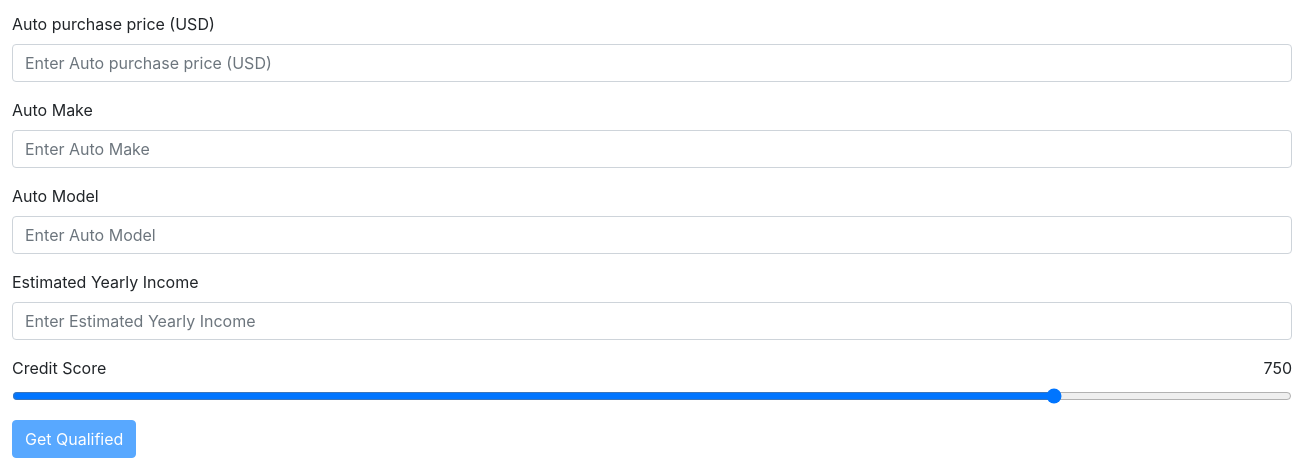
Scenario: QualificationForm › should enable 'submit' button when form complete and valid
Type "10000" into the field labelled "Auto purchase price (USD)" at [652, 63], box x1=12 y1=44 x2=1292 y2=82
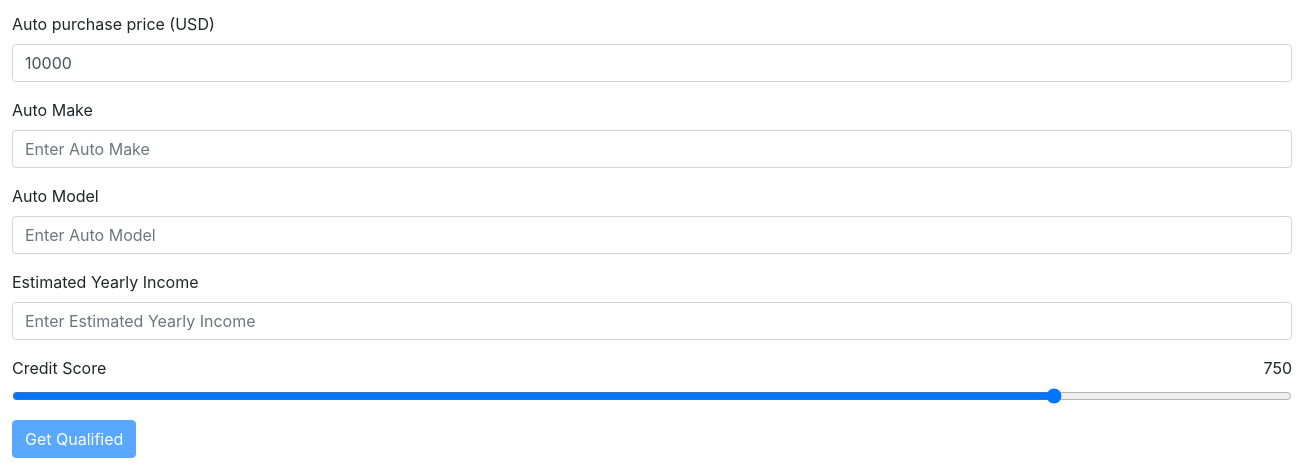
Type "toyota" into the field labelled "Auto Make" at [652, 149], box x1=12 y1=130 x2=1292 y2=168
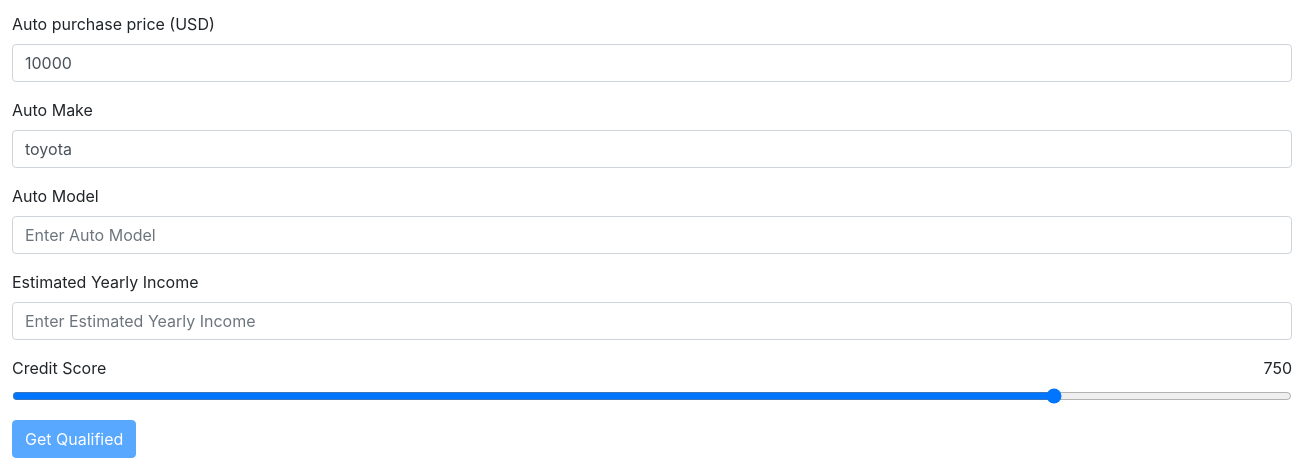
Type "camry" into the field labelled "Auto Model" at [652, 235], box x1=12 y1=216 x2=1292 y2=254
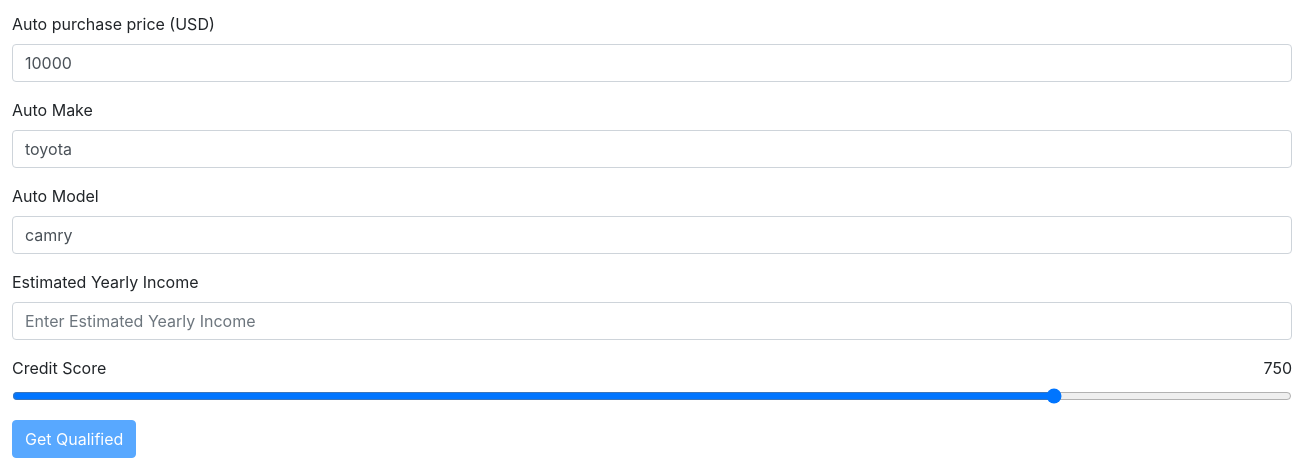
Type "60000" into the field labelled "Estimated Yearly Income" at [652, 321], box x1=12 y1=302 x2=1292 y2=340
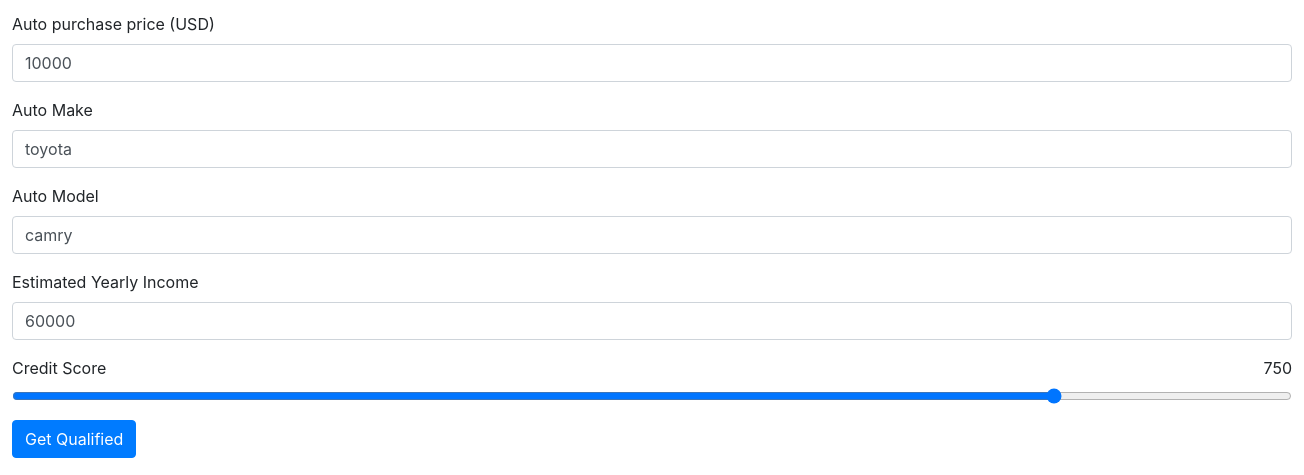
Expected: the button with id "submit_qualifications" is enabled, x1=12 y1=420 x2=136 y2=458
